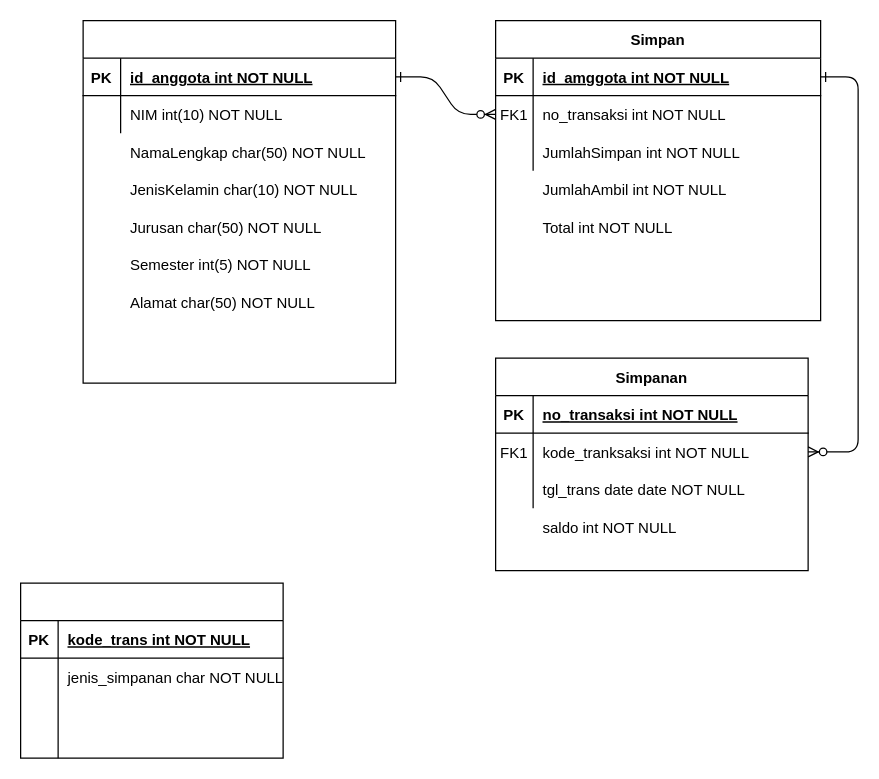
Some shapes in this 879 by 779 pixel diagram are drawn without their labels. The shapes that lost their labels are listed below. From the top down, each one's box as (x1, y1, x2, y2) in pixels, then its label:
(82, 19, 396, 383): Mahasiswa
(19, 582, 283, 758): detail_simpanan
